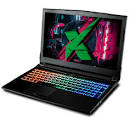laptop: (3, 4, 126, 112)
